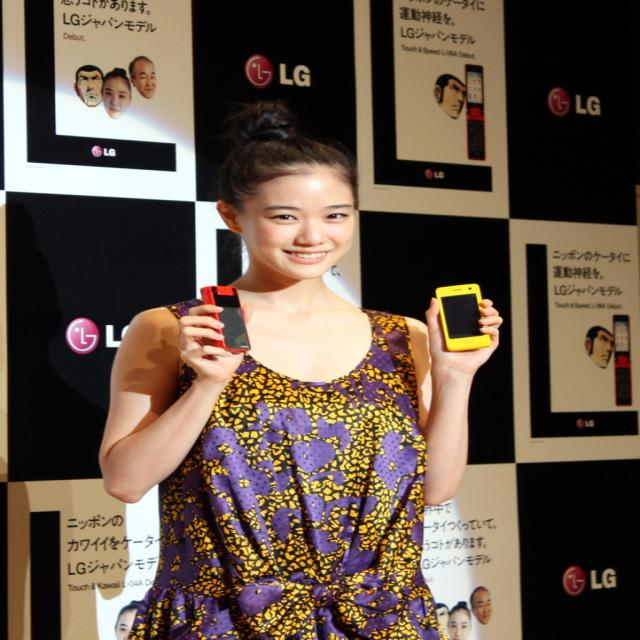Mobile-phone: (425, 282, 507, 356), (202, 284, 252, 352), (466, 65, 488, 162), (612, 315, 634, 407)
